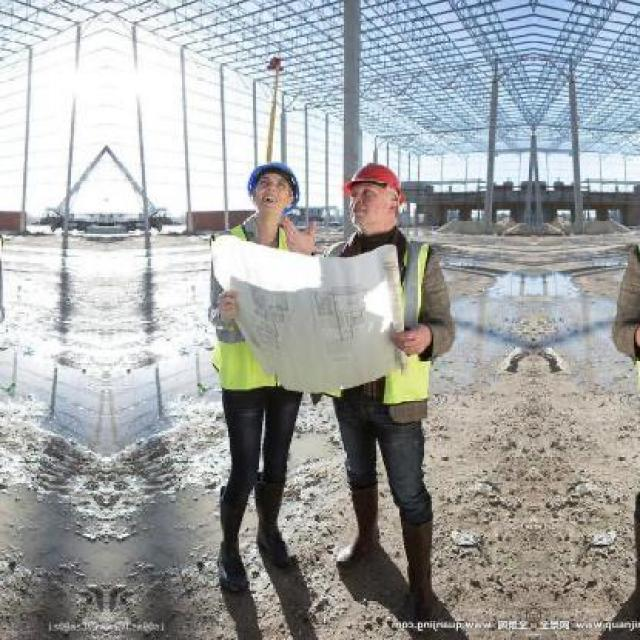Reflective-Jacket: (199, 219, 322, 403), (341, 236, 453, 422)
Safety-Helmet: (334, 156, 414, 210), (234, 154, 308, 211)
